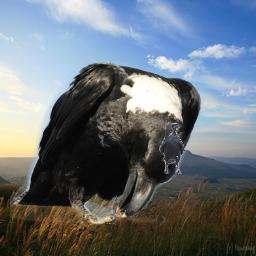Crow: (10, 58, 204, 230), (159, 123, 185, 174)
